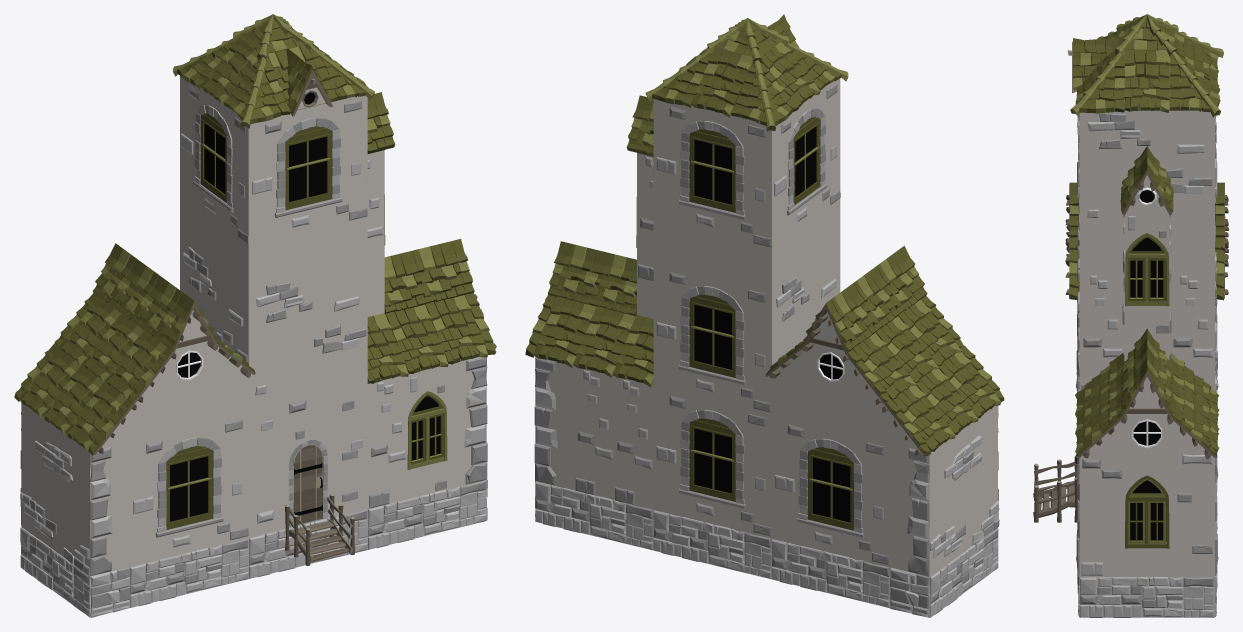
The model's file is house_15.fbx.
The picture shows the model from 3 angles, left to right: view 1: azimuth 30°, elevation 25°; view 2: azimuth 150°, elevation 25°; view 3: azimuth 270°, elevation 25°; orthographic projection.
Visible parts, largest first — view 1: WINDOW_05_19, WALL_01_2, WINDOW_05_18, DOOR_03_3, WALL_03_2, WINDOW_05_20, WALL_06_3, FOUNDATION_03_4, WALL_07_8, FOUNDATION_03_2, WINDOW_01_03, WALL_05_9 (+41 smaller); view 2: WINDOW_05_23, WINDOW_05_24, WINDOW_05_21, WINDOW_05_22, WALL_03_2, WINDOW_05_20, FOUNDATION_03_8, FOUNDATION_03_7, WALL_05_10, FOUNDATION_03_6, WALL_06_11, WALL_06_10 (+40 smaller); view 3: WINDOW_02_2, WALL_01_3, FOUNDATION_03_5, WINDOW_01_04, WALL_06_8, WALL_06_9, ROOF_BASE_16, ROOF_CORNER_OUT_4, ROOF_CORNER_OUT_5, STAIRS_02_2, ROOF_UP_2, ROOF_TRIAGLE_QUAD_7 (+40 smaller).
Boxes of the visible parts, x1,y1,x2,y2 form: WINDOW_05_19: [129, 413, 248, 566]; WALL_01_2: [248, 259, 367, 412]; WINDOW_05_18: [248, 95, 367, 246]; DOOR_03_3: [248, 384, 367, 537]; WALL_03_2: [20, 403, 89, 575]; WINDOW_05_20: [180, 76, 250, 246]; WALL_06_3: [367, 376, 407, 508]; FOUNDATION_03_4: [367, 479, 486, 549]; WALL_07_8: [447, 356, 487, 488]; FOUNDATION_03_2: [129, 537, 248, 607]; WINDOW_01_03: [407, 366, 447, 498]; WALL_05_9: [90, 442, 129, 575]; WINDOW_05_23: [772, 414, 890, 566]; WINDOW_05_24: [653, 385, 771, 537]; WINDOW_05_21: [653, 262, 771, 414]; WINDOW_05_22: [653, 99, 771, 248]; WALL_03_2: [929, 405, 999, 576]; WINDOW_05_20: [772, 79, 840, 248]; FOUNDATION_03_8: [771, 538, 890, 608]; FOUNDATION_03_7: [653, 509, 771, 579]; WALL_05_10: [534, 356, 574, 489]; FOUNDATION_03_6: [535, 480, 653, 550]; WALL_06_11: [575, 366, 614, 499]; WALL_06_10: [614, 376, 653, 509]; WINDOW_02_2: [1081, 454, 1212, 576]; WALL_01_3: [1079, 110, 1214, 233]; FOUNDATION_03_5: [1079, 576, 1214, 617]; WINDOW_01_04: [1125, 211, 1169, 333]; WALL_06_8: [1079, 274, 1124, 389]; WALL_06_9: [1169, 274, 1214, 388]; ROOF_BASE_16: [1124, 49, 1169, 112]; ROOF_CORNER_OUT_4: [1169, 51, 1220, 117]; ROOF_CORNER_OUT_5: [1070, 50, 1124, 116]; STAIRS_02_2: [1033, 456, 1077, 522]; ROOF_UP_2: [1115, 14, 1178, 56]; ROOF_TRIAGLE_QUAD_7: [1169, 233, 1214, 274].
Size of the model in its own units: 1041 by 1266 by 434.
